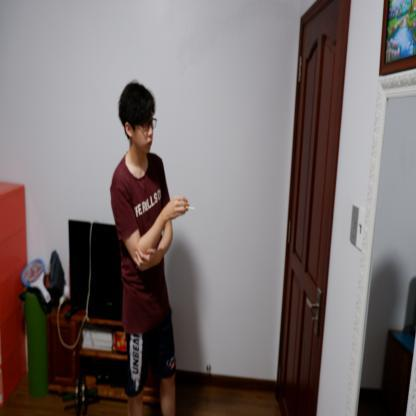cigarette: (184, 205, 196, 212)
person: (109, 77, 181, 415)
